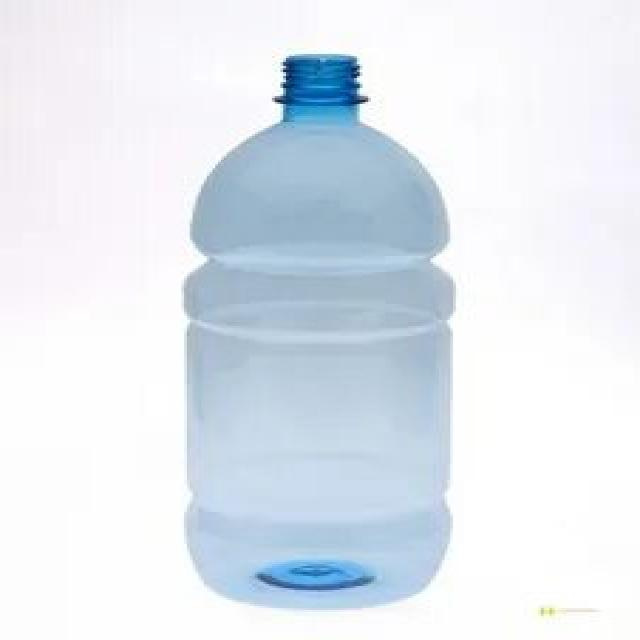blue: (187, 57, 453, 610)
